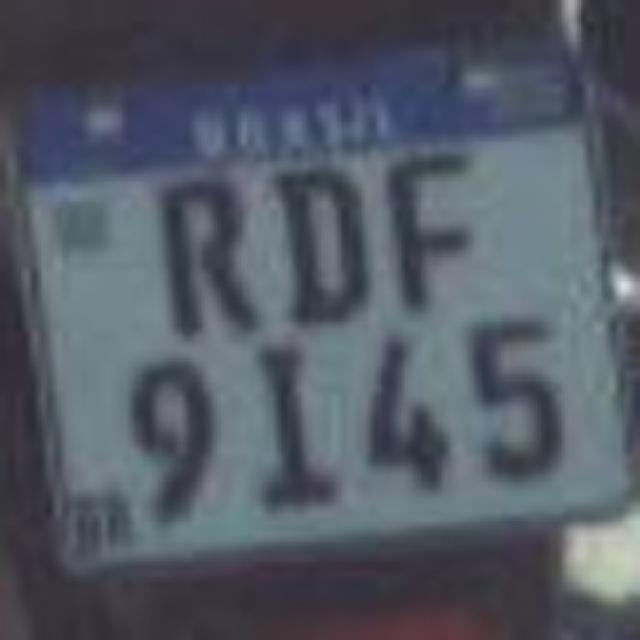4: (328, 324, 452, 511)
5: (440, 324, 575, 496)
9: (108, 328, 208, 524)
F: (376, 148, 504, 324)
I: (216, 328, 332, 504)
R: (145, 160, 280, 335)
